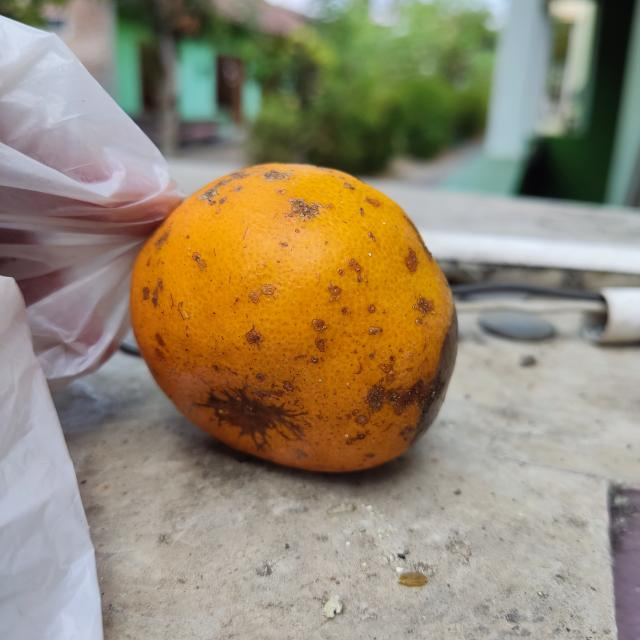orange: (128, 162, 460, 474)
